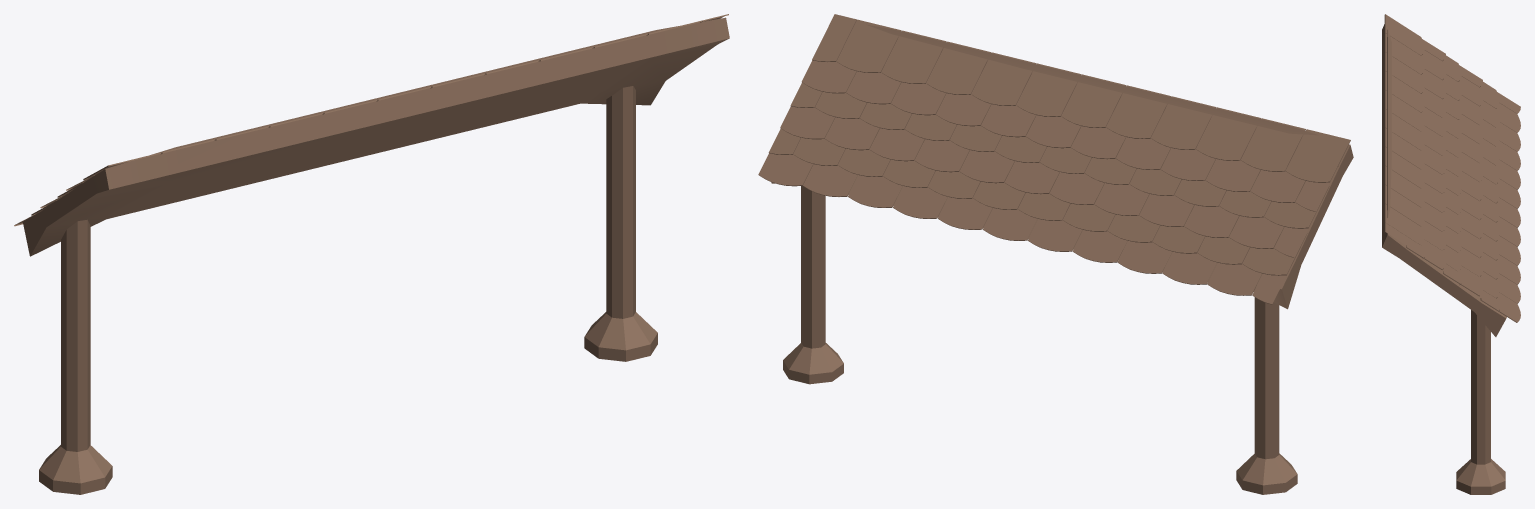
Rendered from Dojo_entrance.fbx.
The picture shows the model from 3 angles, left to right: view 1: azimuth 30°, elevation 25°; view 2: azimuth 150°, elevation 25°; view 3: azimuth 270°, elevation 25°; orthographic projection. The views are drawn at different scales.
Parts seen in each view (by area): view 1: Dojo_entrance; view 2: Dojo_entrance; view 3: Dojo_entrance.
Part boxes in pixels (box(x1,y1,x2,y2)): Dojo_entrance: box(14, 14, 729, 494); Dojo_entrance: box(758, 14, 1353, 494); Dojo_entrance: box(1382, 14, 1520, 494).
Bounding box in the file's own units: 26.91 × 15.35 × 7.23.
